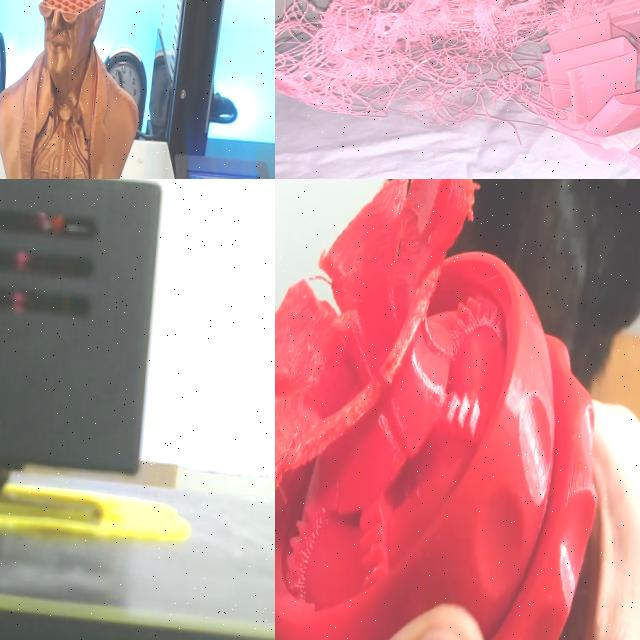spaghetti: (275, 0, 629, 152)
